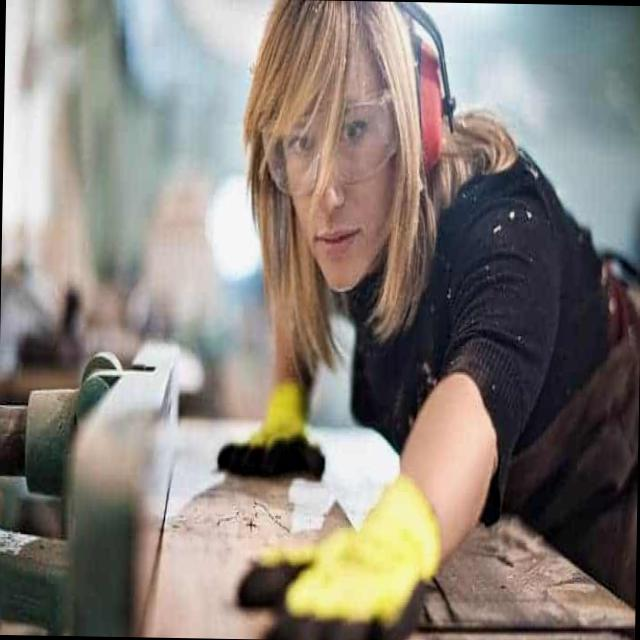goggles: (245, 98, 408, 182)
helmet: (229, 0, 461, 129)
no-vest: (370, 205, 596, 490)
